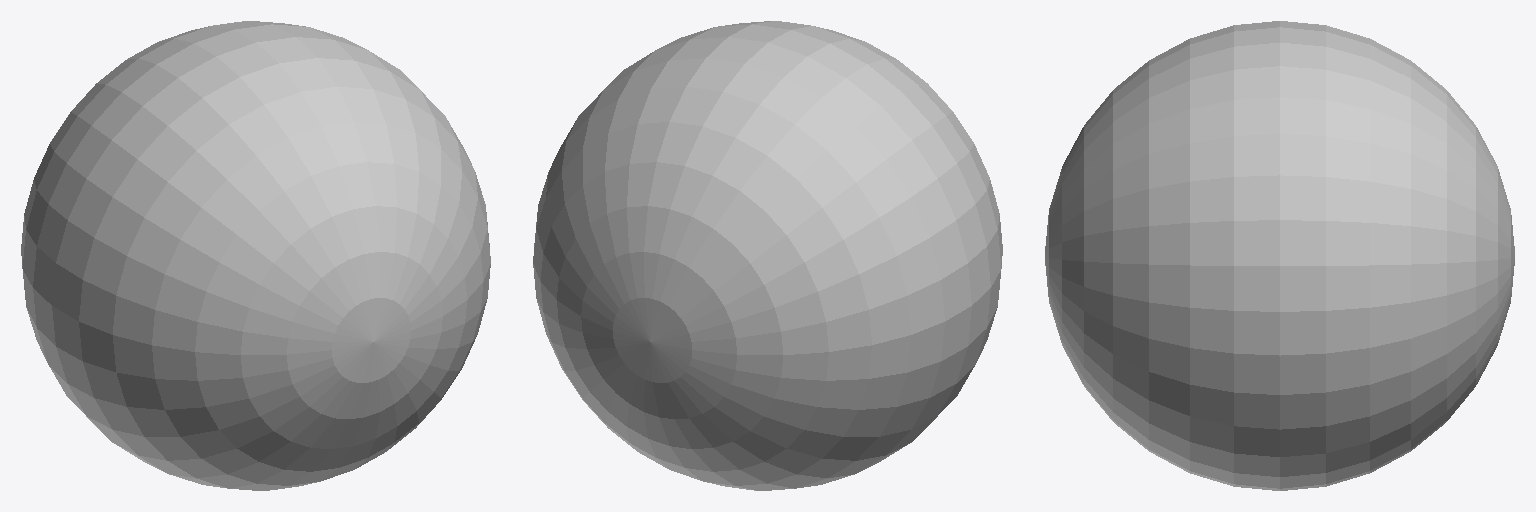
Rendered from test_ball.obj.
3 renders of one model, left to right at view 1: azimuth 30°, elevation 25°; view 2: azimuth 150°, elevation 25°; view 3: azimuth 270°, elevation 25°, orthographic.
Visible parts, largest first — view 1: Sphere; view 2: Sphere; view 3: Sphere.
Boxes of the visible parts, x1=… form: Sphere: x1=21, y1=21, x2=490, y2=490; Sphere: x1=533, y1=21, x2=1002, y2=490; Sphere: x1=1045, y1=21, x2=1514, y2=490.
Size of the model in its own units: 2 by 2 by 2.